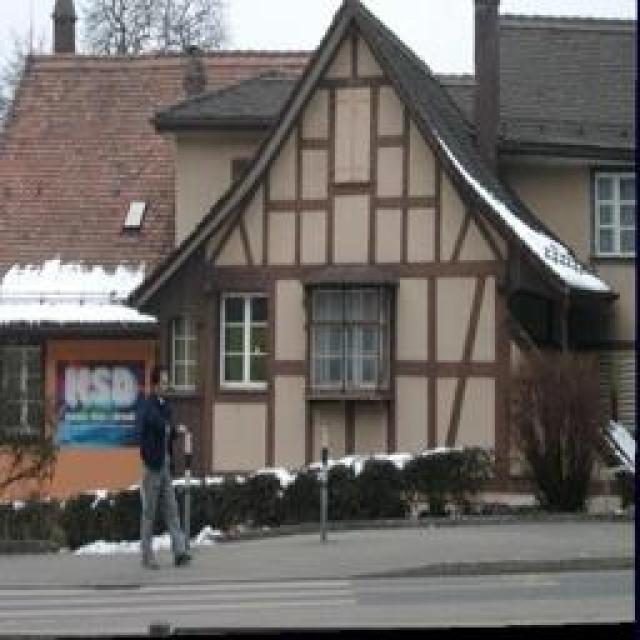building: (167, 12, 640, 527)
